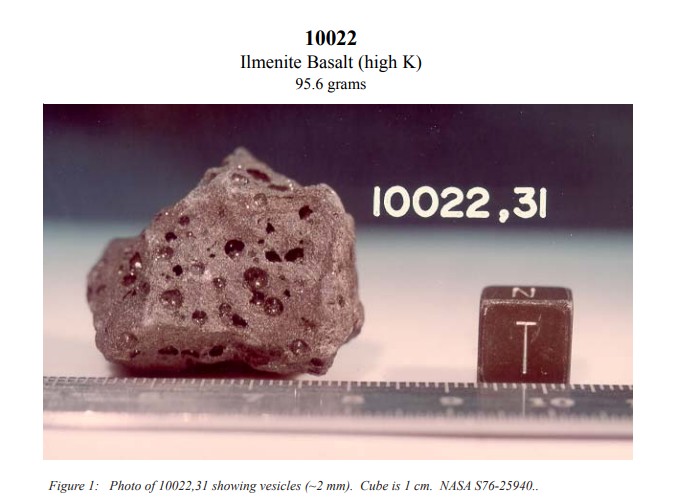Basalt: (64, 150, 365, 384)
